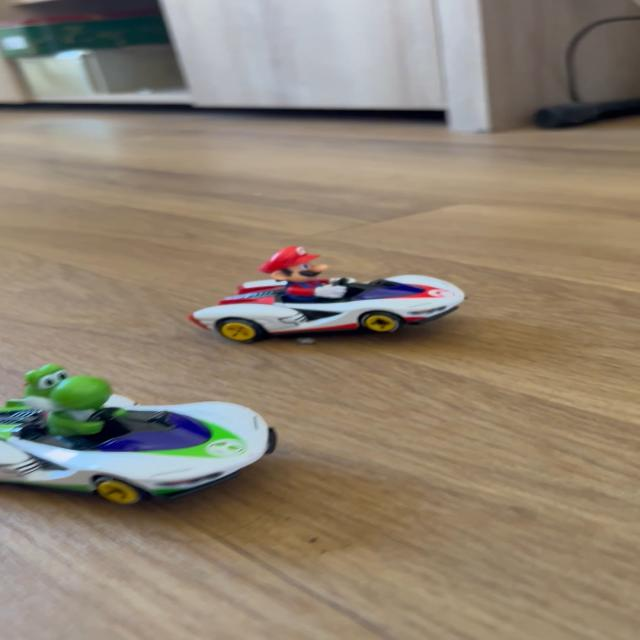mario: (180, 244, 480, 346)
yoshi: (1, 352, 291, 507)
